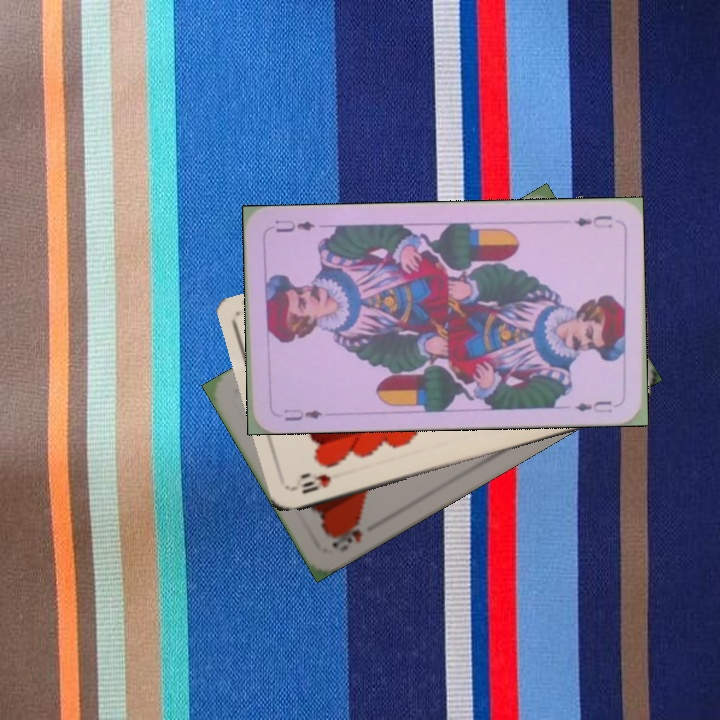EU: (280, 405, 326, 424), (570, 212, 615, 231)
H10: (297, 470, 333, 497)
HO: (327, 515, 366, 555)
